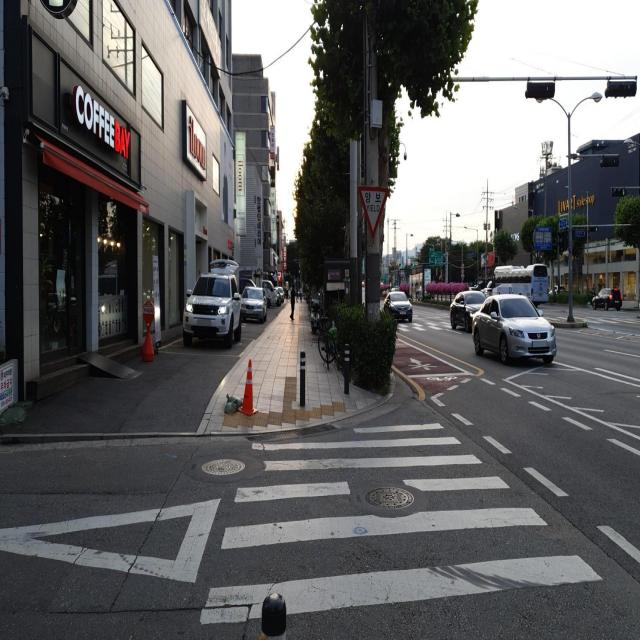횡단보도: (197, 419, 605, 630)
